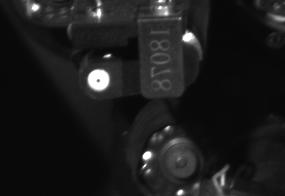fiber: (82, 65, 116, 96)
